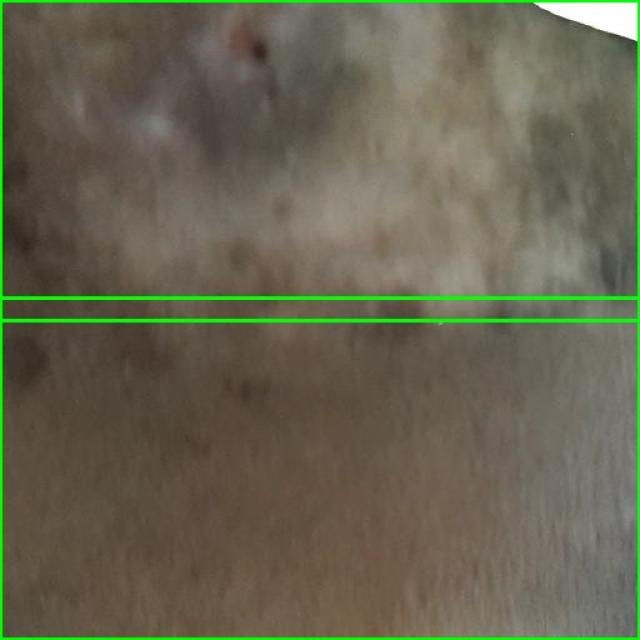Contact Dermatitis: (0, 298, 639, 639), (0, 0, 639, 320)
